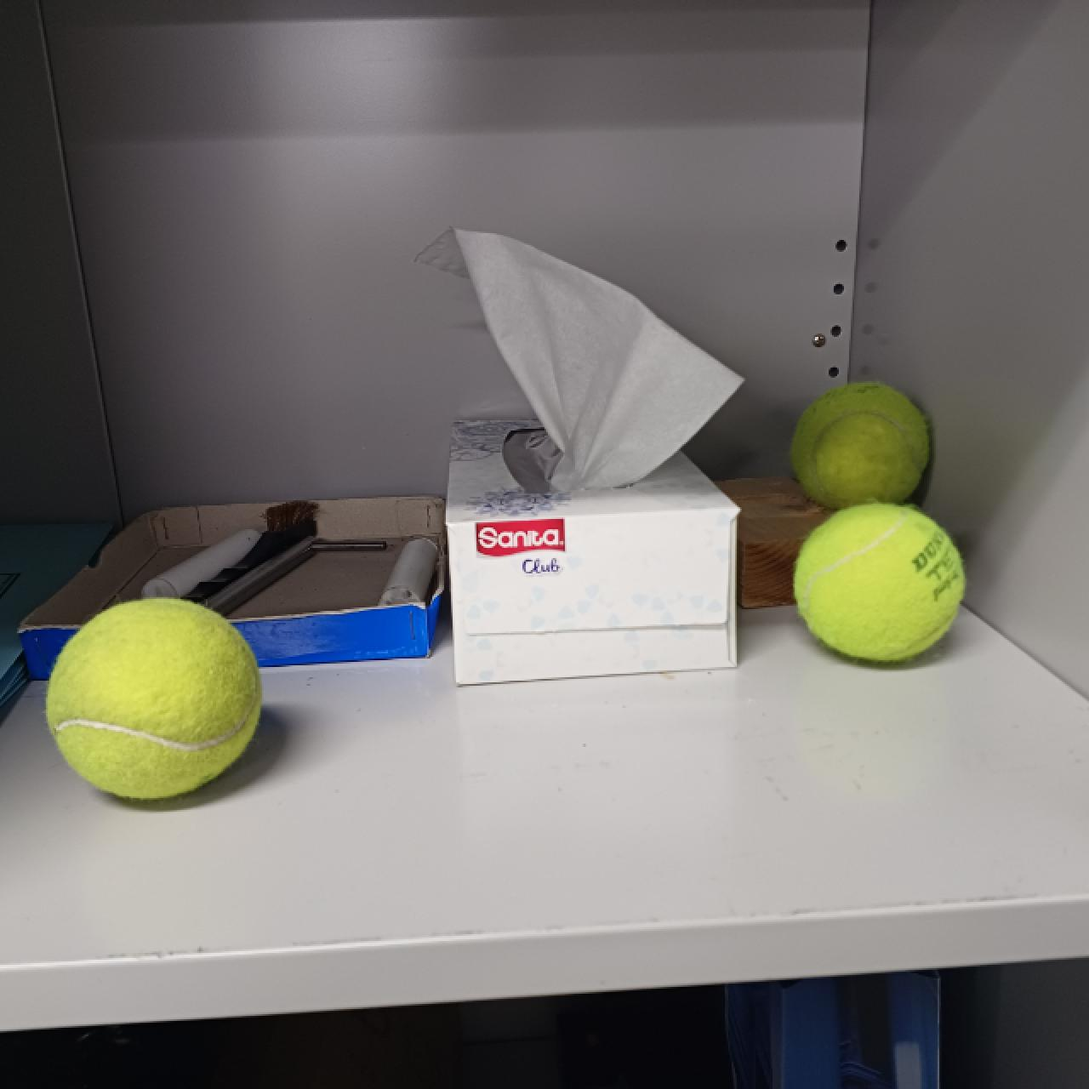tennis-ball: (47, 596, 263, 803), (792, 501, 968, 665), (789, 379, 934, 512)
